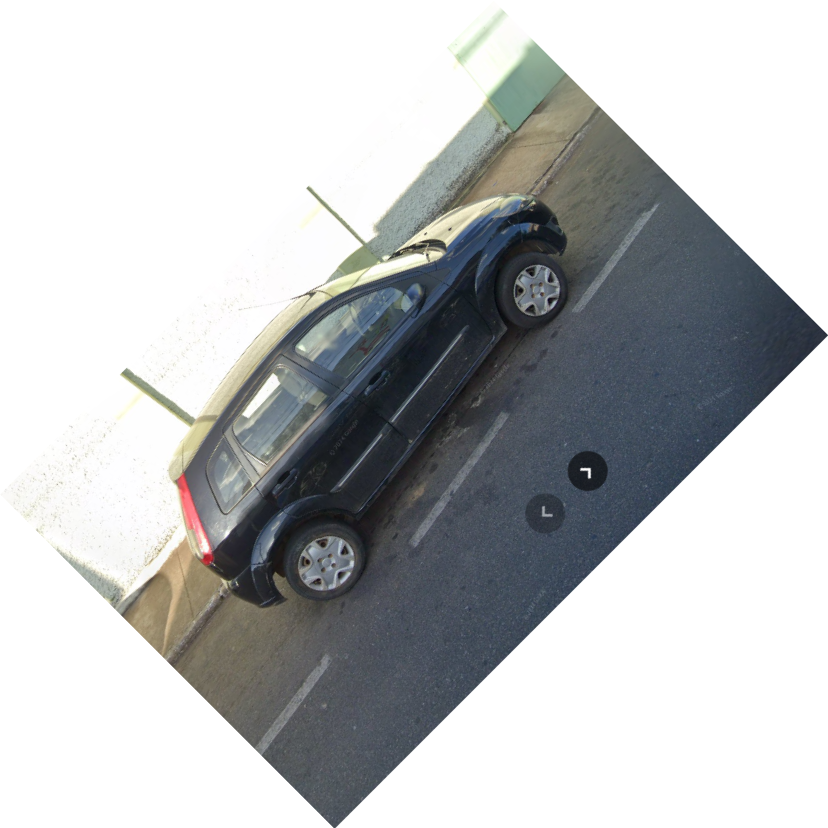car: (164, 189, 572, 613)
